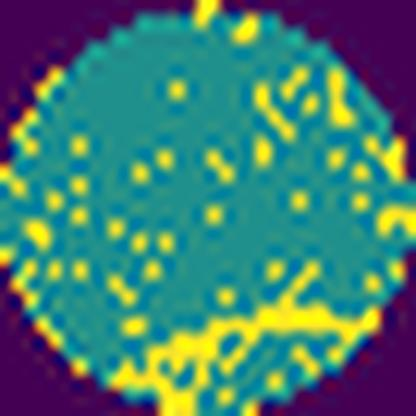Scratch: (113, 260, 383, 416)
